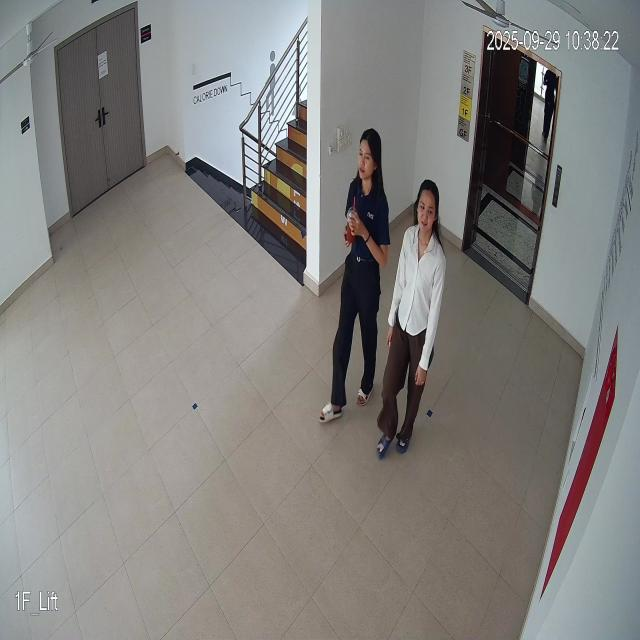face: (415, 179, 441, 241), (355, 127, 379, 189)
